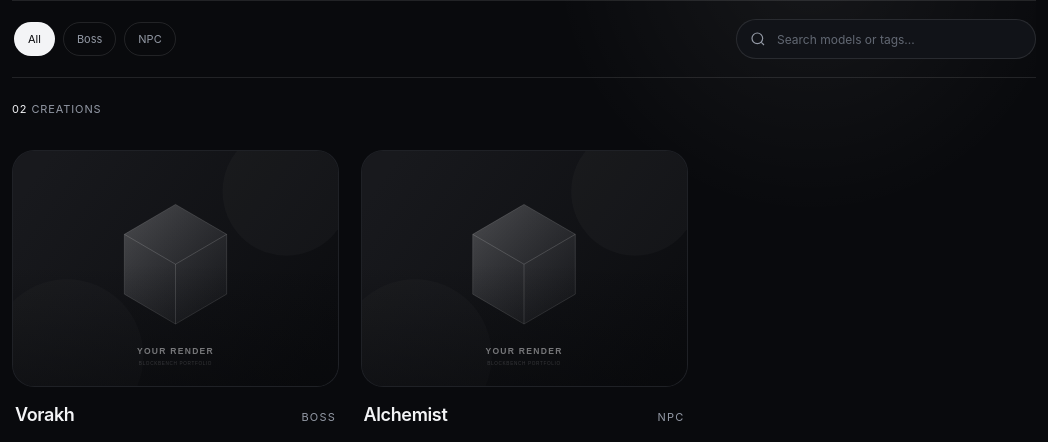
Test case: GalleryClient › filters by category without navigation
Click the button "Boss".
click(90, 39)  # box [63,22,116,56]
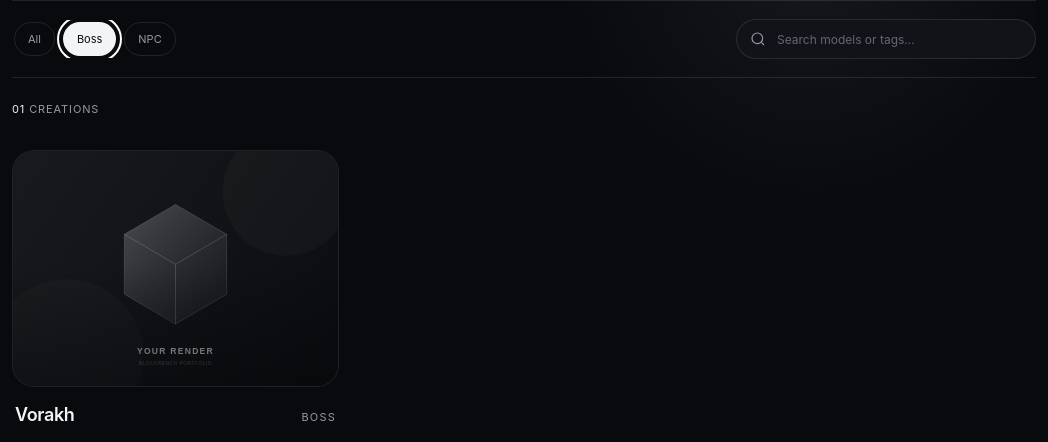
Expected: the heading "Vorakh" is shown, [15,404,74,425]
Expected: the link "Alchemist" is gone
